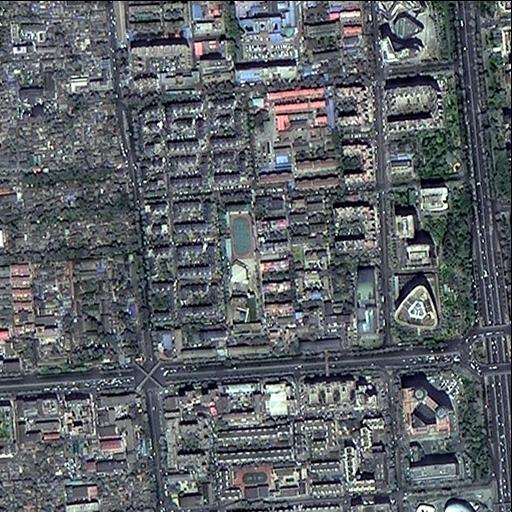school: (222, 192, 263, 337), (233, 457, 308, 505)
